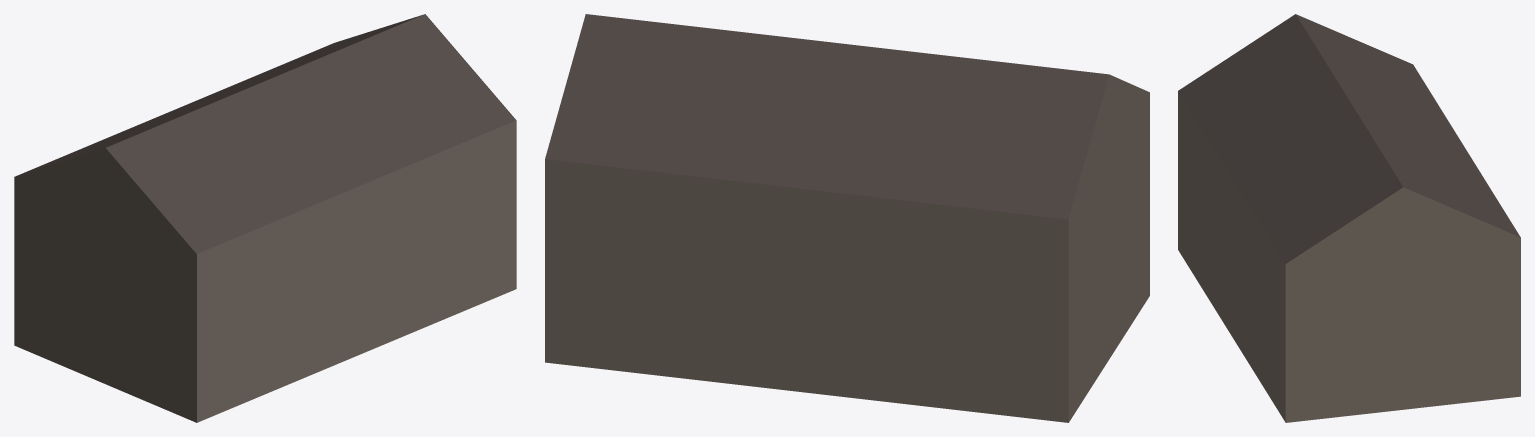
3 views of the same model, side by side, from view 1: azimuth 30°, elevation 25°; view 2: azimuth 150°, elevation 25°; view 3: azimuth 270°, elevation 25° (orthographic). The views are drawn at different scales.
Parts seen in each view (by area): view 1: HP-w1200835409; view 2: HP-w1200835409; view 3: HP-w1200835409.
Part boxes in pixels (x1,y1,x2,y2): HP-w1200835409: (14, 14, 516, 422); HP-w1200835409: (545, 14, 1149, 422); HP-w1200835409: (1178, 14, 1520, 422).
Bounding box in the file's own units: 24.25 × 12.61 × 17.61.
